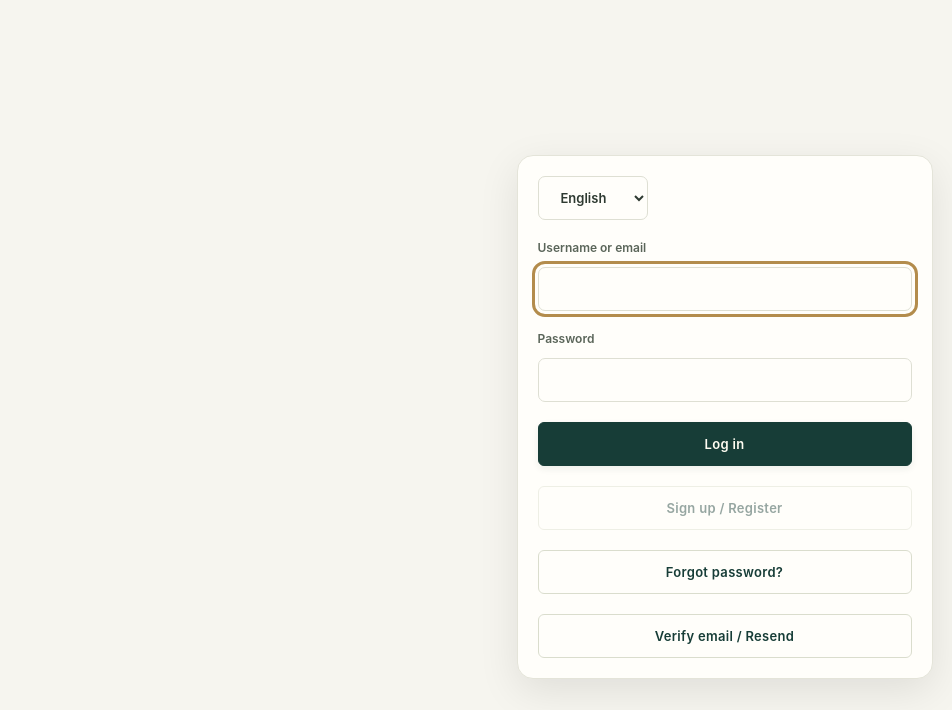
Test: authenticated application boundary › requires login before mounting gameplay and keeps passwords out of storage
Expected: the text "Protected gameplay" is not shown
Step 1. Type "Raven" into the field labelled "Username or email" → (724, 289), box [538,267,912,311]
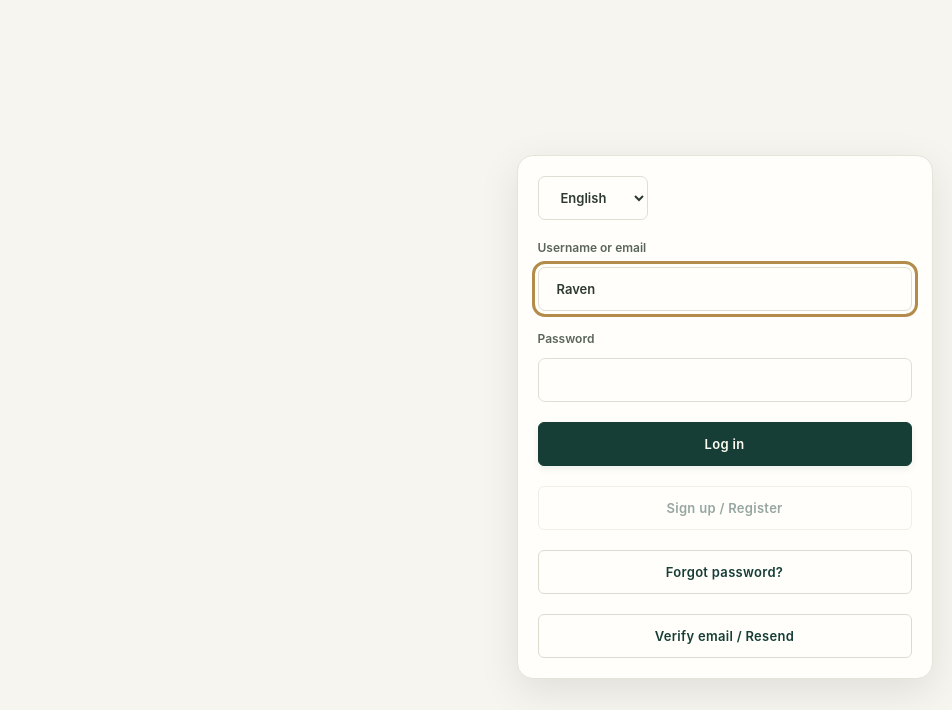
Step 2. Type "never-store-this-password" into the password field labelled "Password" → (724, 380), box [538,358,912,402]
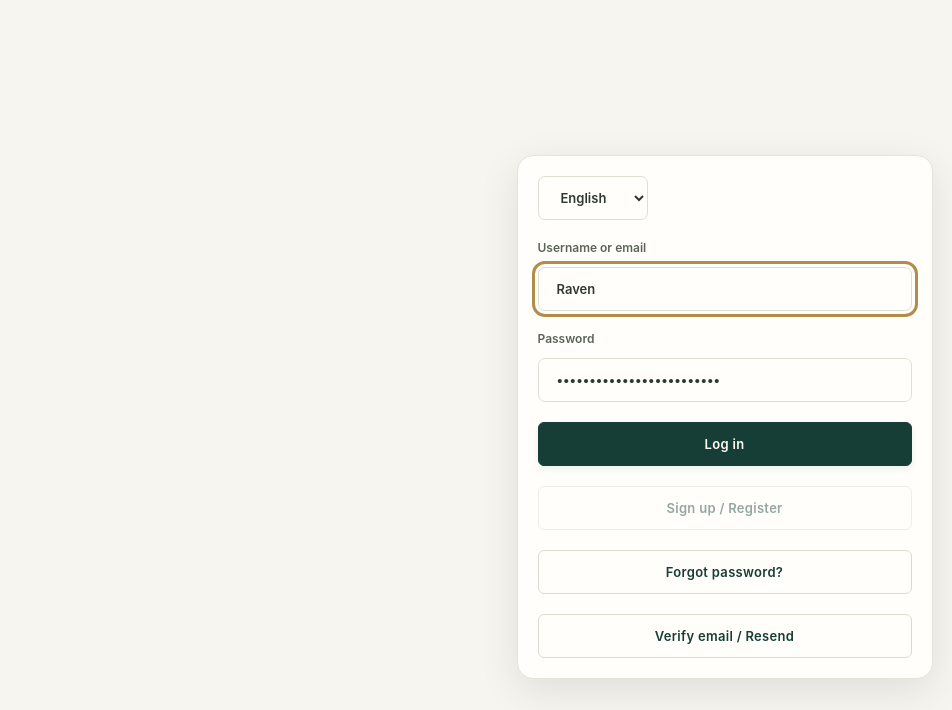
Step 3. Click the button "Log in" → (724, 444), box [538,422,912,466]
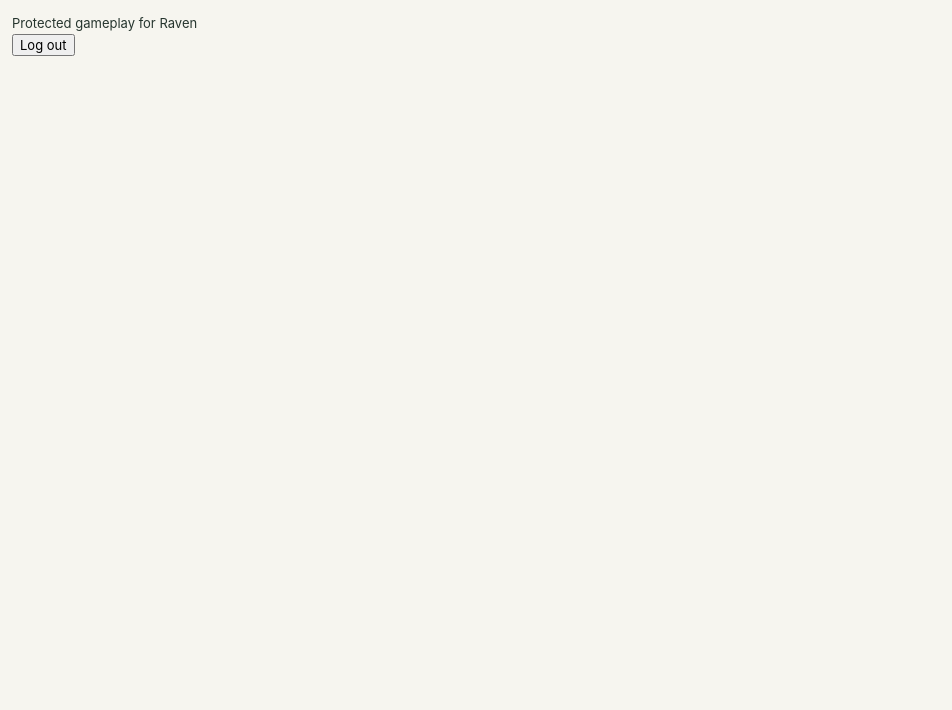
Expected: the text "Protected gameplay for Raven" is shown, [12,15,197,31]
